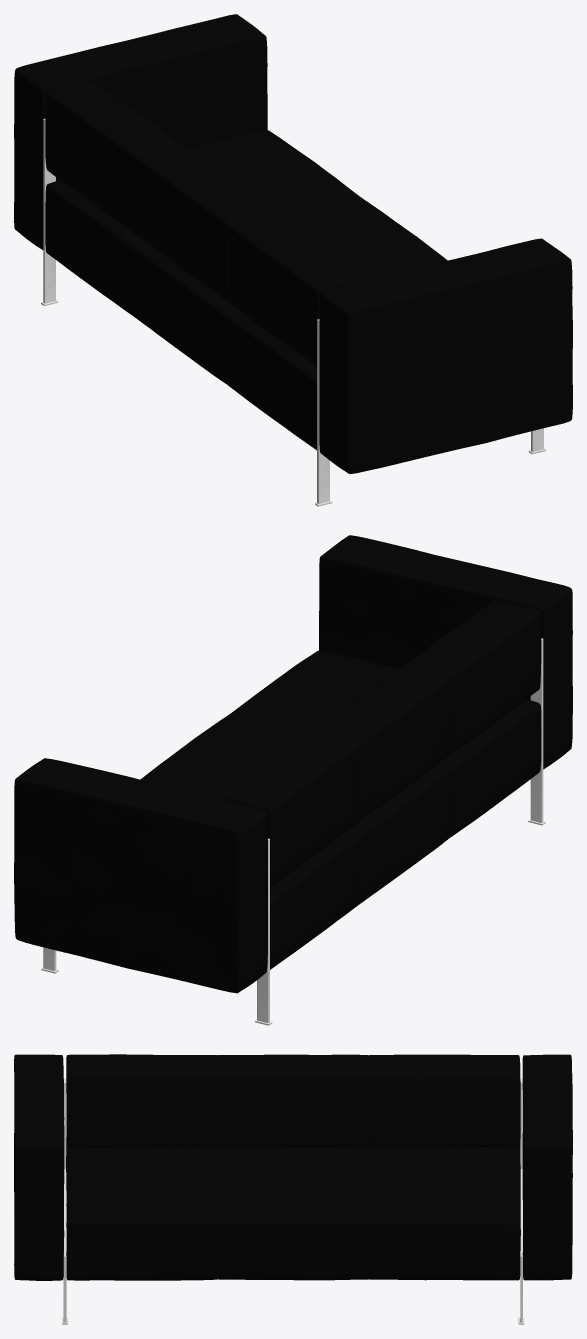
Rendered from LeatherCouch.fbx.
The picture shows the model from 3 angles, top to bottom: view 1: azimuth 30°, elevation 25°; view 2: azimuth 150°, elevation 25°; view 3: azimuth 270°, elevation 25°; orthographic projection. The views are drawn at different scales.
Parts seen in each view (by area): view 1: LeatherCouch; view 2: LeatherCouch; view 3: LeatherCouch.
Part boxes in pixels (x1,y1,x2,y2): LeatherCouch: [14, 14, 572, 506]; LeatherCouch: [14, 535, 572, 1025]; LeatherCouch: [14, 1054, 572, 1324].
Size of what is drawn, in the model's own units: 80.42 by 205 by 72.71.
2 materials, 1 textured.
